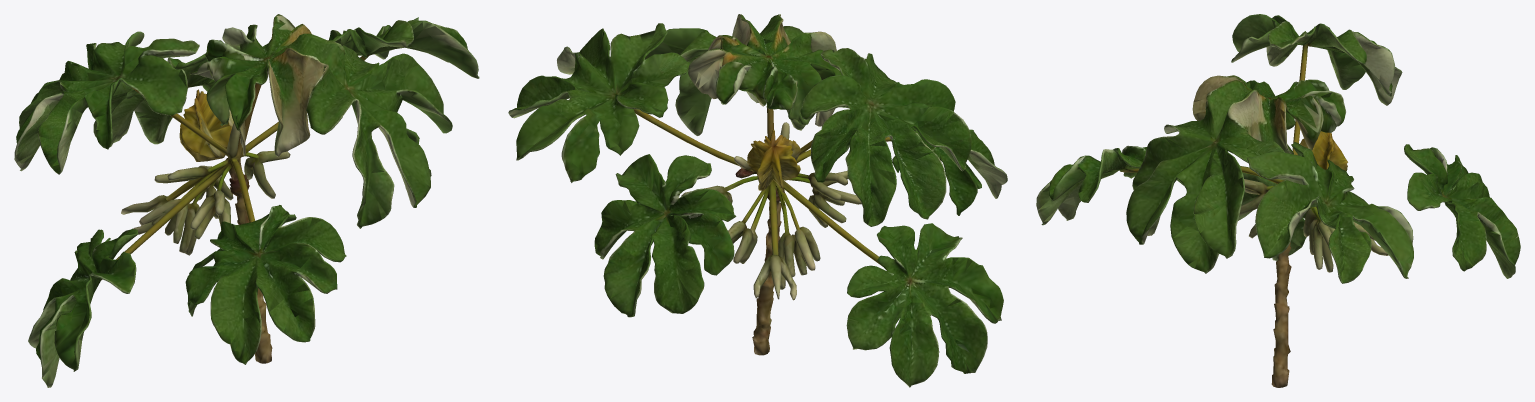
Rendered from planta_colobura_tipo_2.fbx.
3 renders of one model, left to right at view 1: azimuth 30°, elevation 25°; view 2: azimuth 150°, elevation 25°; view 3: azimuth 270°, elevation 25°, orthographic. The views are drawn at different scales.
Parts seen in each view (by area): view 1: tripo_node_6bda7d11; view 2: tripo_node_6bda7d11; view 3: tripo_node_6bda7d11.
Boxes of the visible parts, left/top/right/bottom form: tripo_node_6bda7d11: left=14, top=14, right=479, bottom=387; tripo_node_6bda7d11: left=508, top=14, right=1007, bottom=387; tripo_node_6bda7d11: left=1036, top=14, right=1520, bottom=387.
Size of the model in its own units: 15.73 by 11.09 by 15.55.
1 material, 1 textured.
